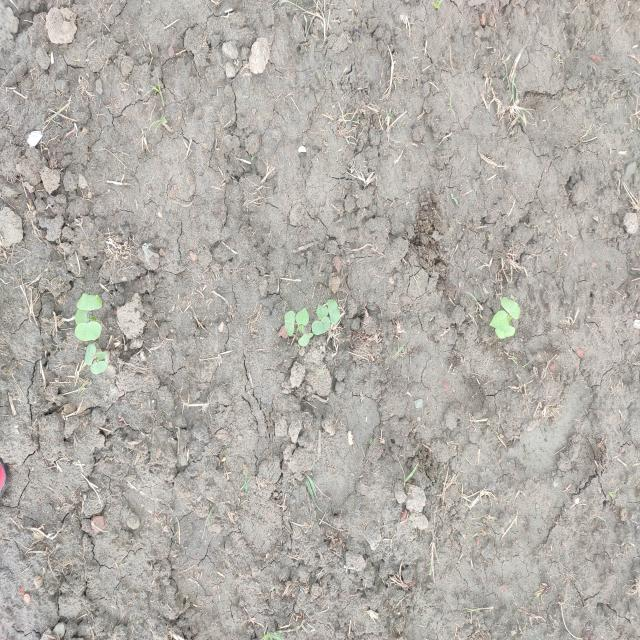seedling_s4: (75, 320, 101, 342), (77, 293, 103, 311), (501, 297, 520, 318), (489, 311, 508, 331), (312, 316, 331, 335), (327, 299, 340, 324), (495, 325, 516, 339), (84, 343, 96, 365), (285, 310, 295, 336), (91, 360, 108, 375), (296, 307, 309, 326), (298, 333, 314, 347), (74, 308, 87, 325), (316, 305, 328, 319), (97, 351, 106, 360)
